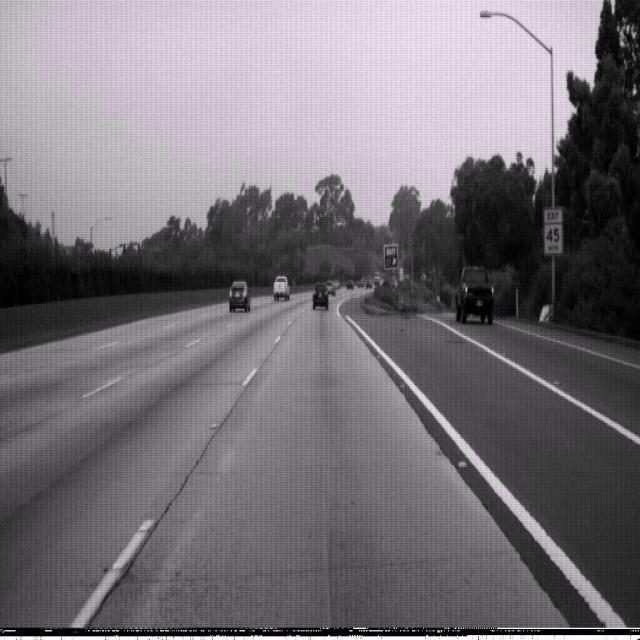speedLimit45: (543, 206, 563, 255)
